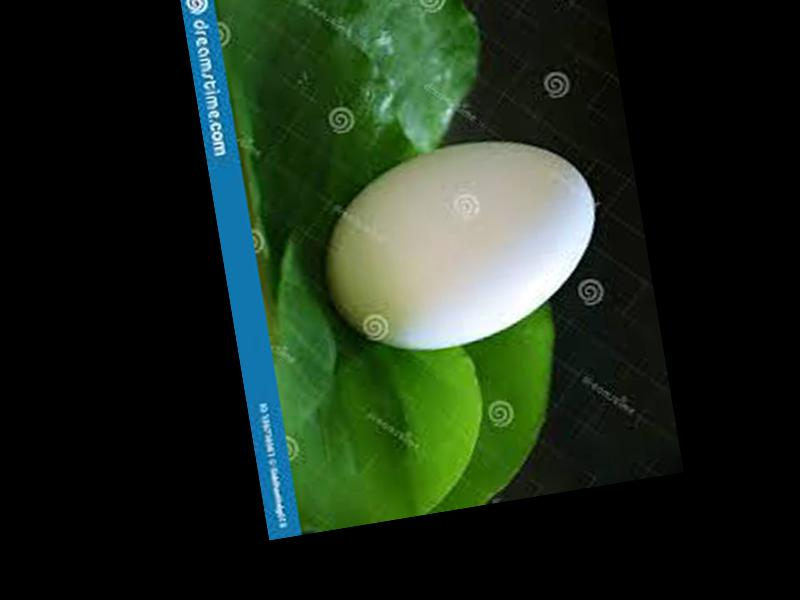Eggs: (310, 123, 613, 365)
